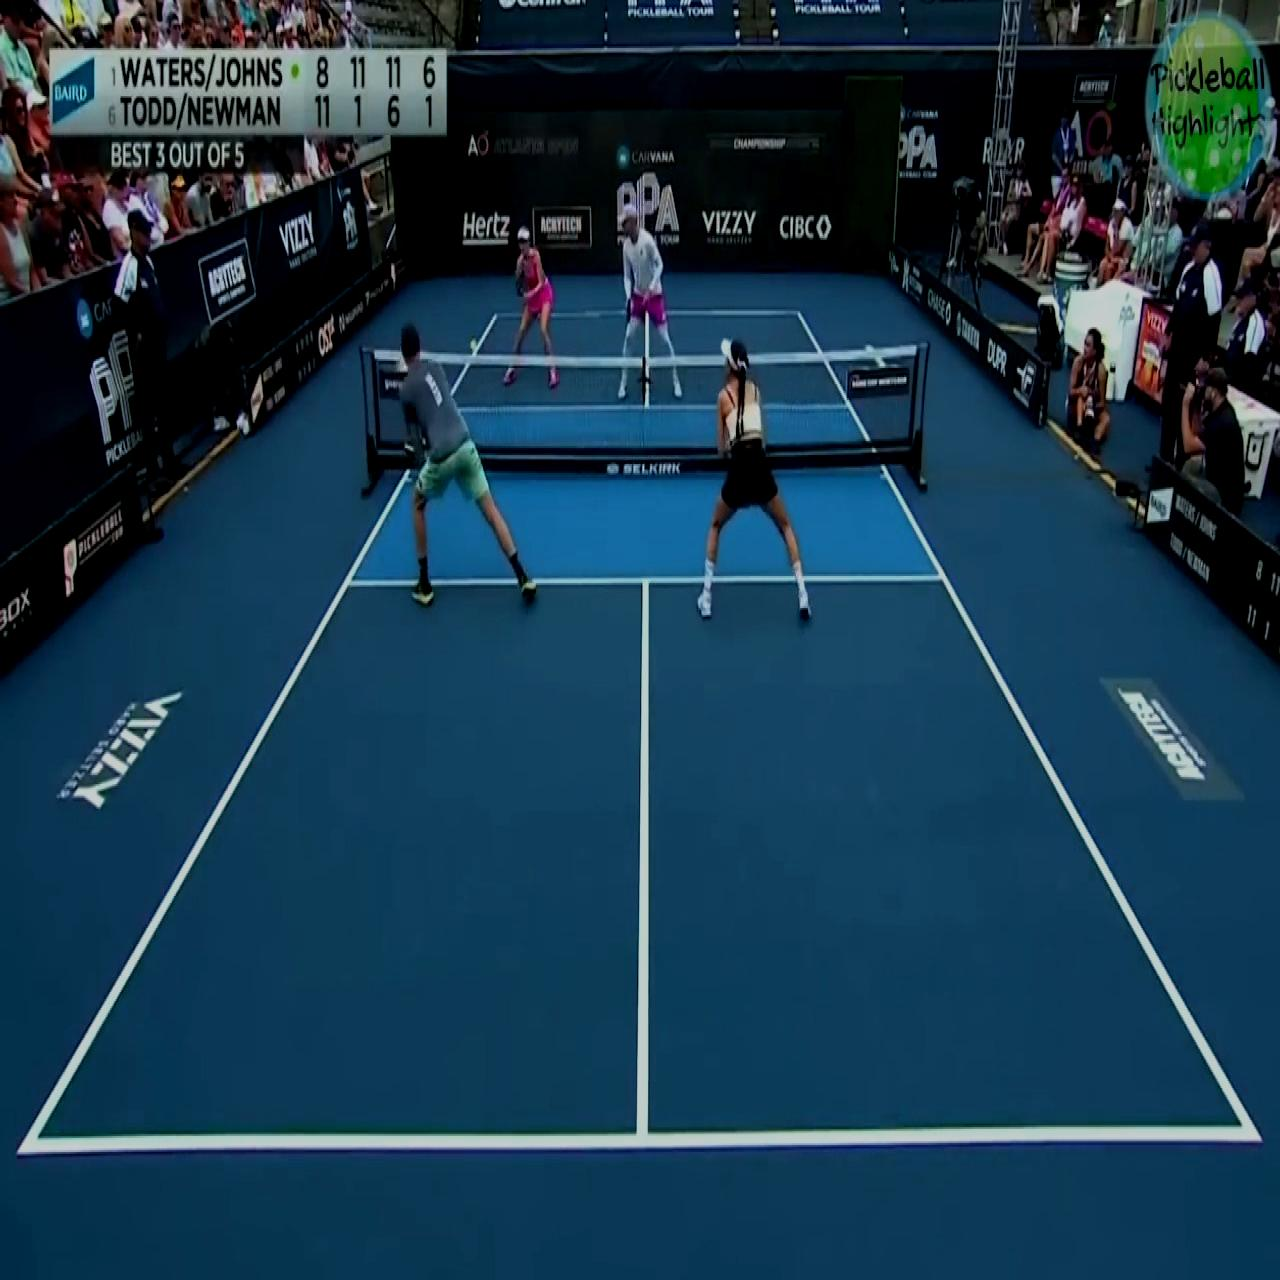Pickleball: (467, 328, 482, 355)
